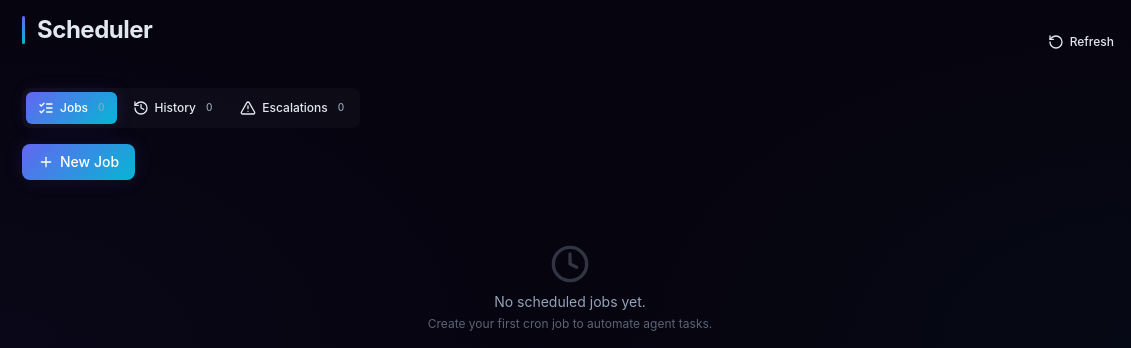
Test: Scheduler Page › navigates to Escalations tab
Click the button "Escalations 0".
click(292, 108)  # box [228,92,356,124]
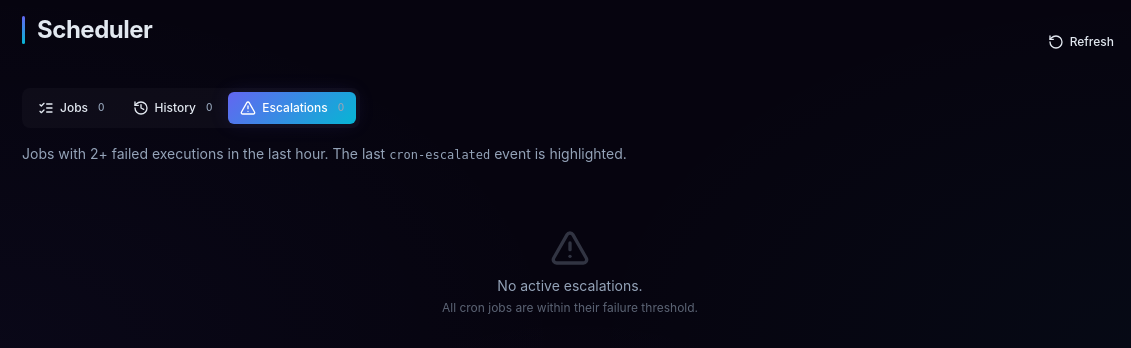
expect the text "No active escalations." is shown: met, box [497,277,643,294]
